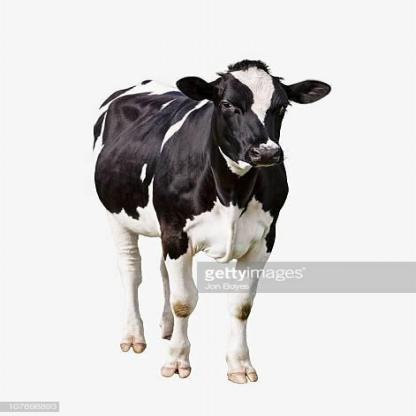cow: (92, 61, 331, 385)
